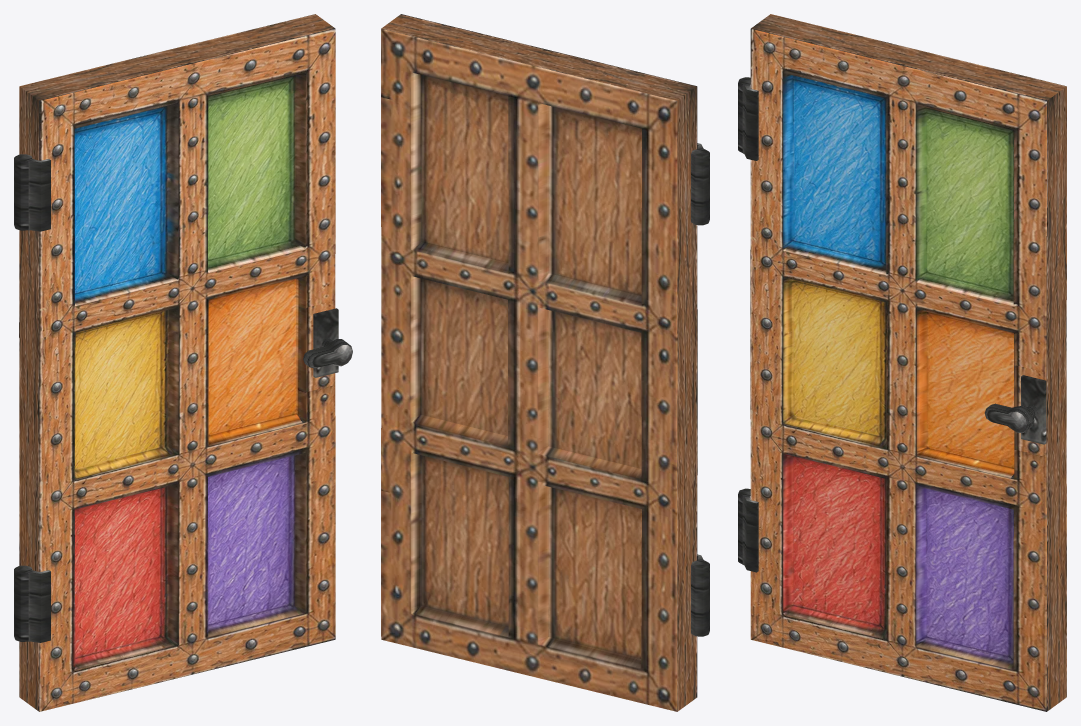
File: fantasy-door.meshopt.glb
The picture shows the model from 3 angles, left to right: view 1: azimuth 30°, elevation 25°; view 2: azimuth 150°, elevation 25°; view 3: azimuth 330°, elevation 25°; orthographic projection.
Visible parts, largest first — view 1: FantasyDoor_Combined; view 2: FantasyDoor_Combined; view 3: FantasyDoor_Combined.
Boxes of the visible parts, x1,y1,x2,y2 form: FantasyDoor_Combined: (14,14,352,711); FantasyDoor_Combined: (381,14,709,711); FantasyDoor_Combined: (738,14,1066,711).
Bounding box in the file's own units: 1.1 × 2.05 × 0.243.
1 material, 1 textured.
